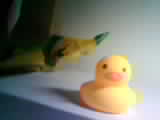duck: (84, 45, 147, 109)
